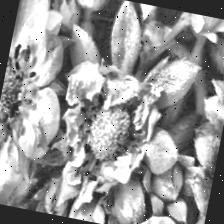Blossom Blight: (66, 84, 154, 191), (0, 40, 46, 153)
